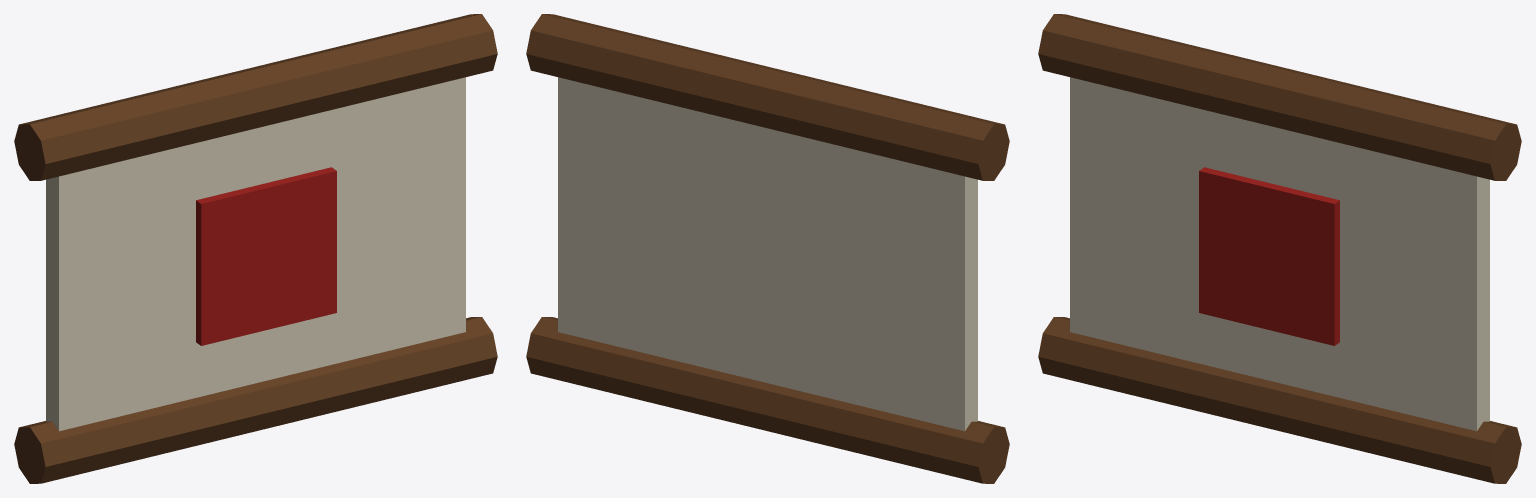
Rendered from SM_GZ_item_scroll.fbx.
The picture shows the model from 3 angles, left to right: view 1: azimuth 30°, elevation 25°; view 2: azimuth 150°, elevation 25°; view 3: azimuth 330°, elevation 25°; orthographic projection.
Visible parts, largest first — view 1: SM_GZ_item_scroll; view 2: SM_GZ_item_scroll; view 3: SM_GZ_item_scroll.
Part boxes in pixels (left/top/right/bottom): SM_GZ_item_scroll: left=14, top=14, right=497, bottom=483; SM_GZ_item_scroll: left=526, top=14, right=1009, bottom=483; SM_GZ_item_scroll: left=1038, top=14, right=1521, bottom=483.
Size of the model in its own units: 100 by 76 by 12.
